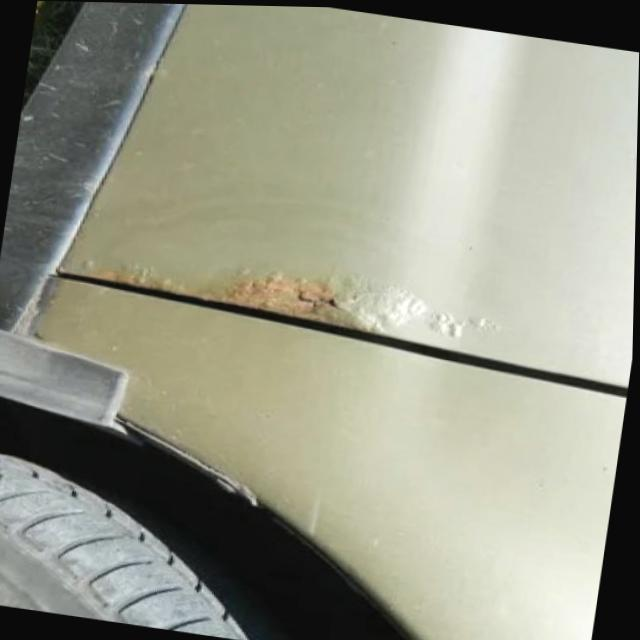Rust: (70, 254, 500, 343)
